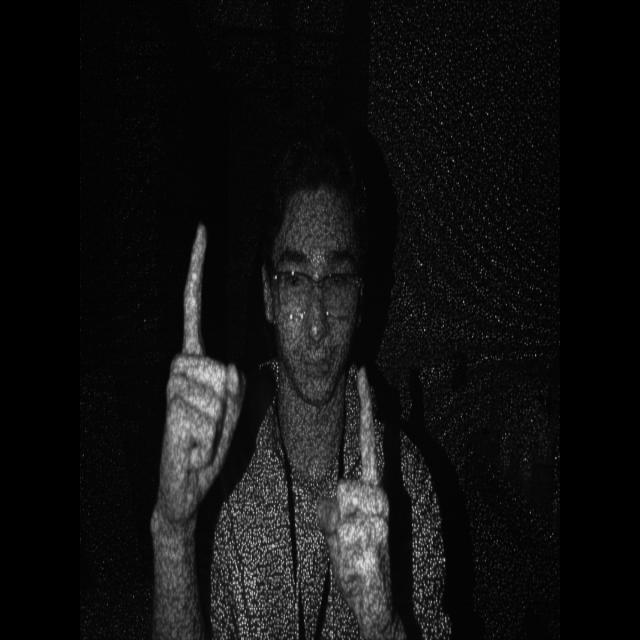STARS: (144, 205, 251, 537), (326, 358, 400, 638)
